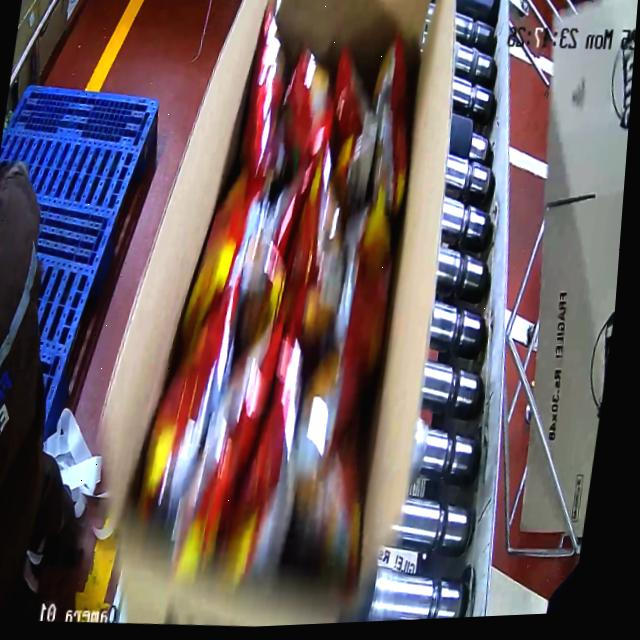MASALA: (134, 25, 432, 563)
